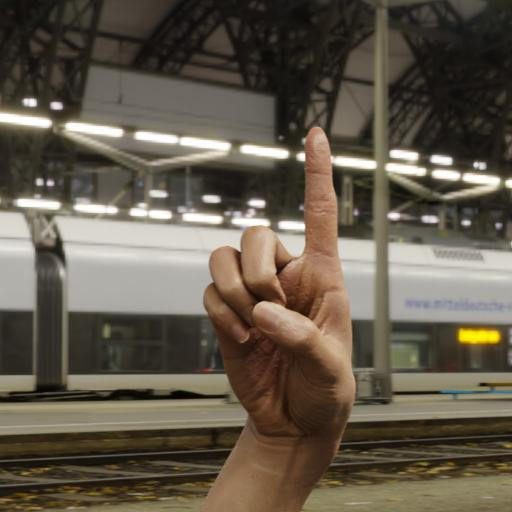D: (199, 120, 365, 453)
